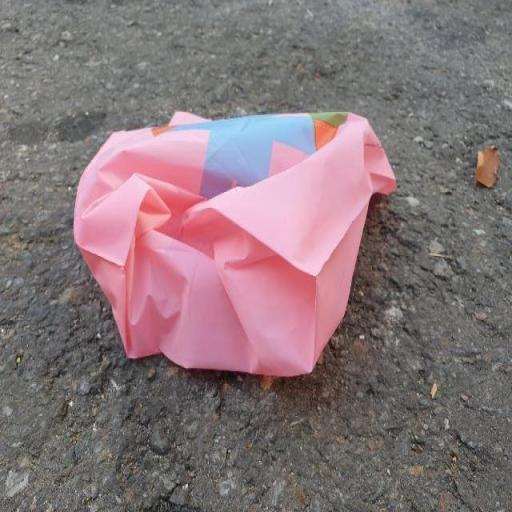plastic-bag: (70, 108, 394, 376)
